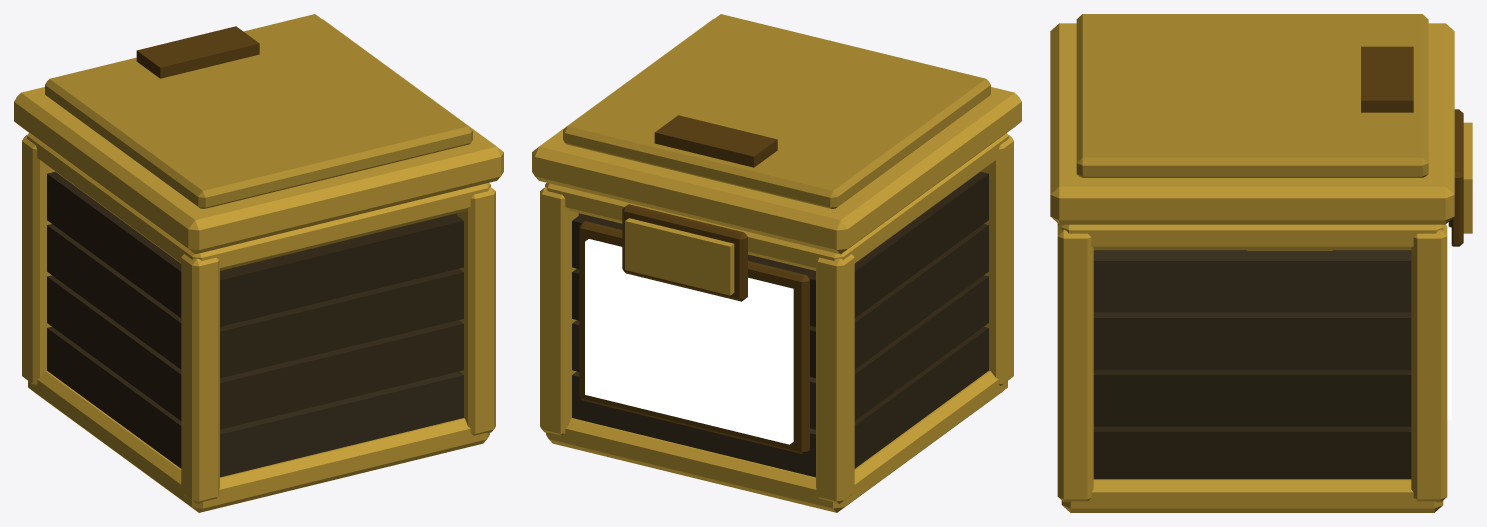
The model's file is RobuxBox.glb.
The picture shows the model from 3 angles, left to right: view 1: azimuth 30°, elevation 25°; view 2: azimuth 150°, elevation 25°; view 3: azimuth 270°, elevation 25°; orthographic projection. The views are drawn at different scales.
Visible parts, largest first — view 1: Body; view 2: Body, Glow, Badge; view 3: Body, Badge, Glow.
Boxes of the visible parts, x1,y1,x2,y2 form: Body: (14,14,503,512); Body: (532,14,1021,512); Glow: (585,239,793,444); Badge: (625,218,734,295); Body: (1050,14,1463,512); Badge: (1463,122,1472,233); Glow: (1446,222,1451,420).
Size of what is drawn, in the model's own units: 2.7 by 2.67 by 2.82.
